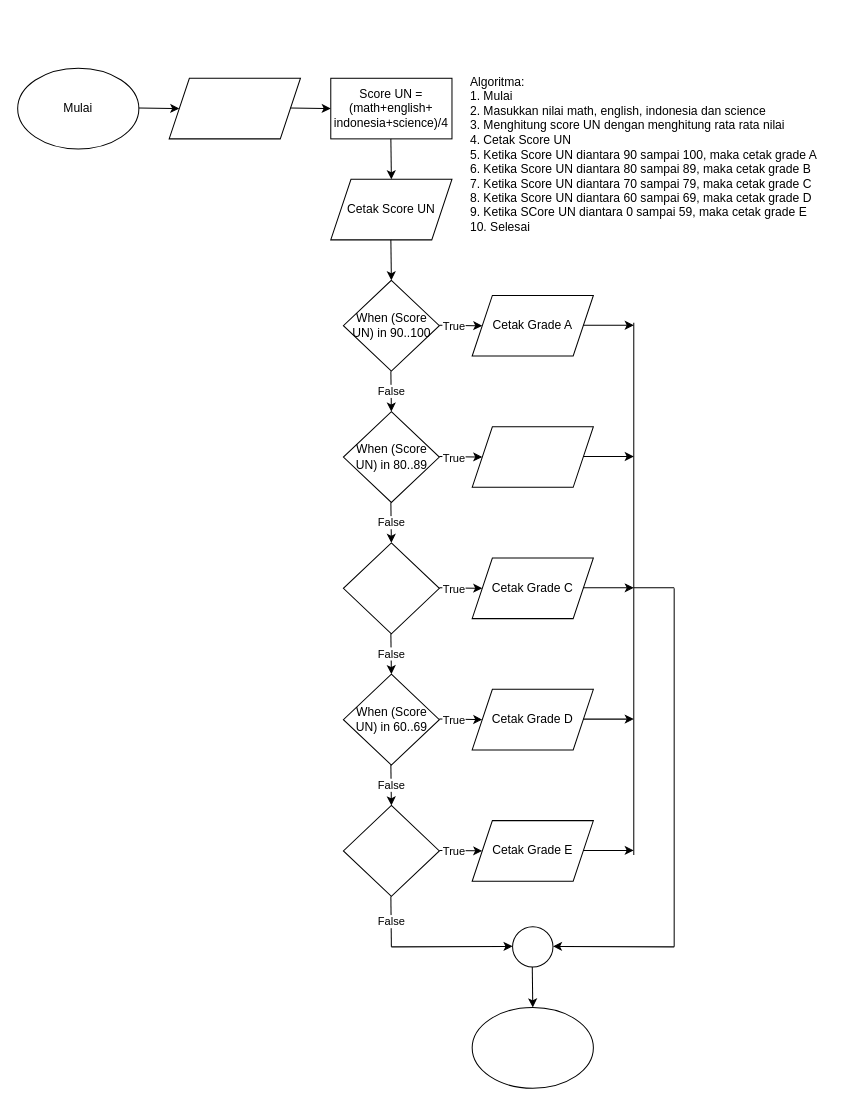
This 843x1106 diagram has some shape labels left out. Each missing label, with the centre of its shape:
Cetak Grade B: (532,456)
Input nilai math, english, indonesia, science: (234,108)
Selesai: (532,1047)
When (Score UN) in 0..59: (390,850)
When (Score UN) in 70..79: (390,588)
